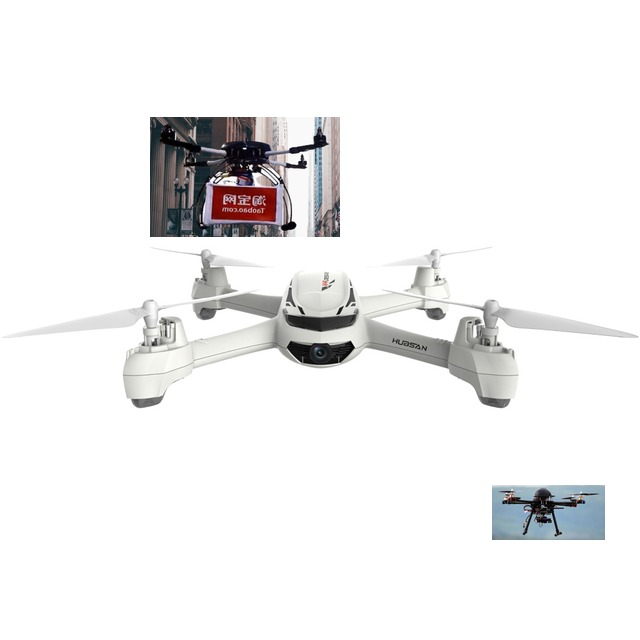drone: (36, 242, 640, 408), (150, 117, 340, 237), (492, 485, 605, 540)
